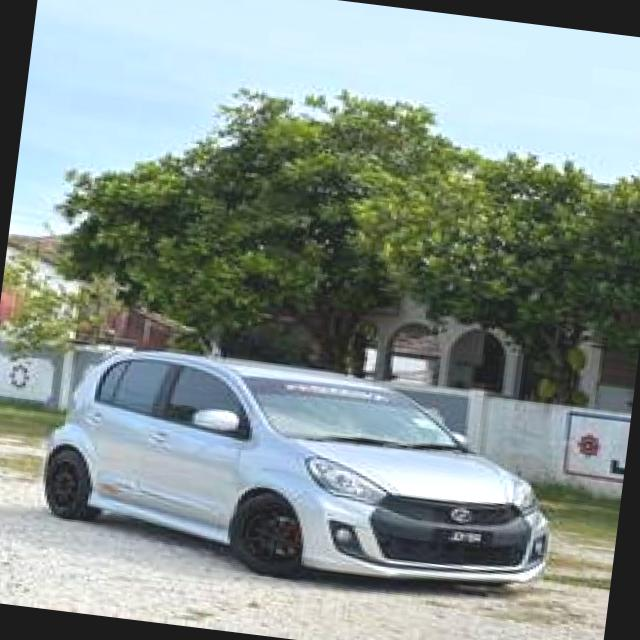PeroduaMyvi: (28, 332, 569, 610)
